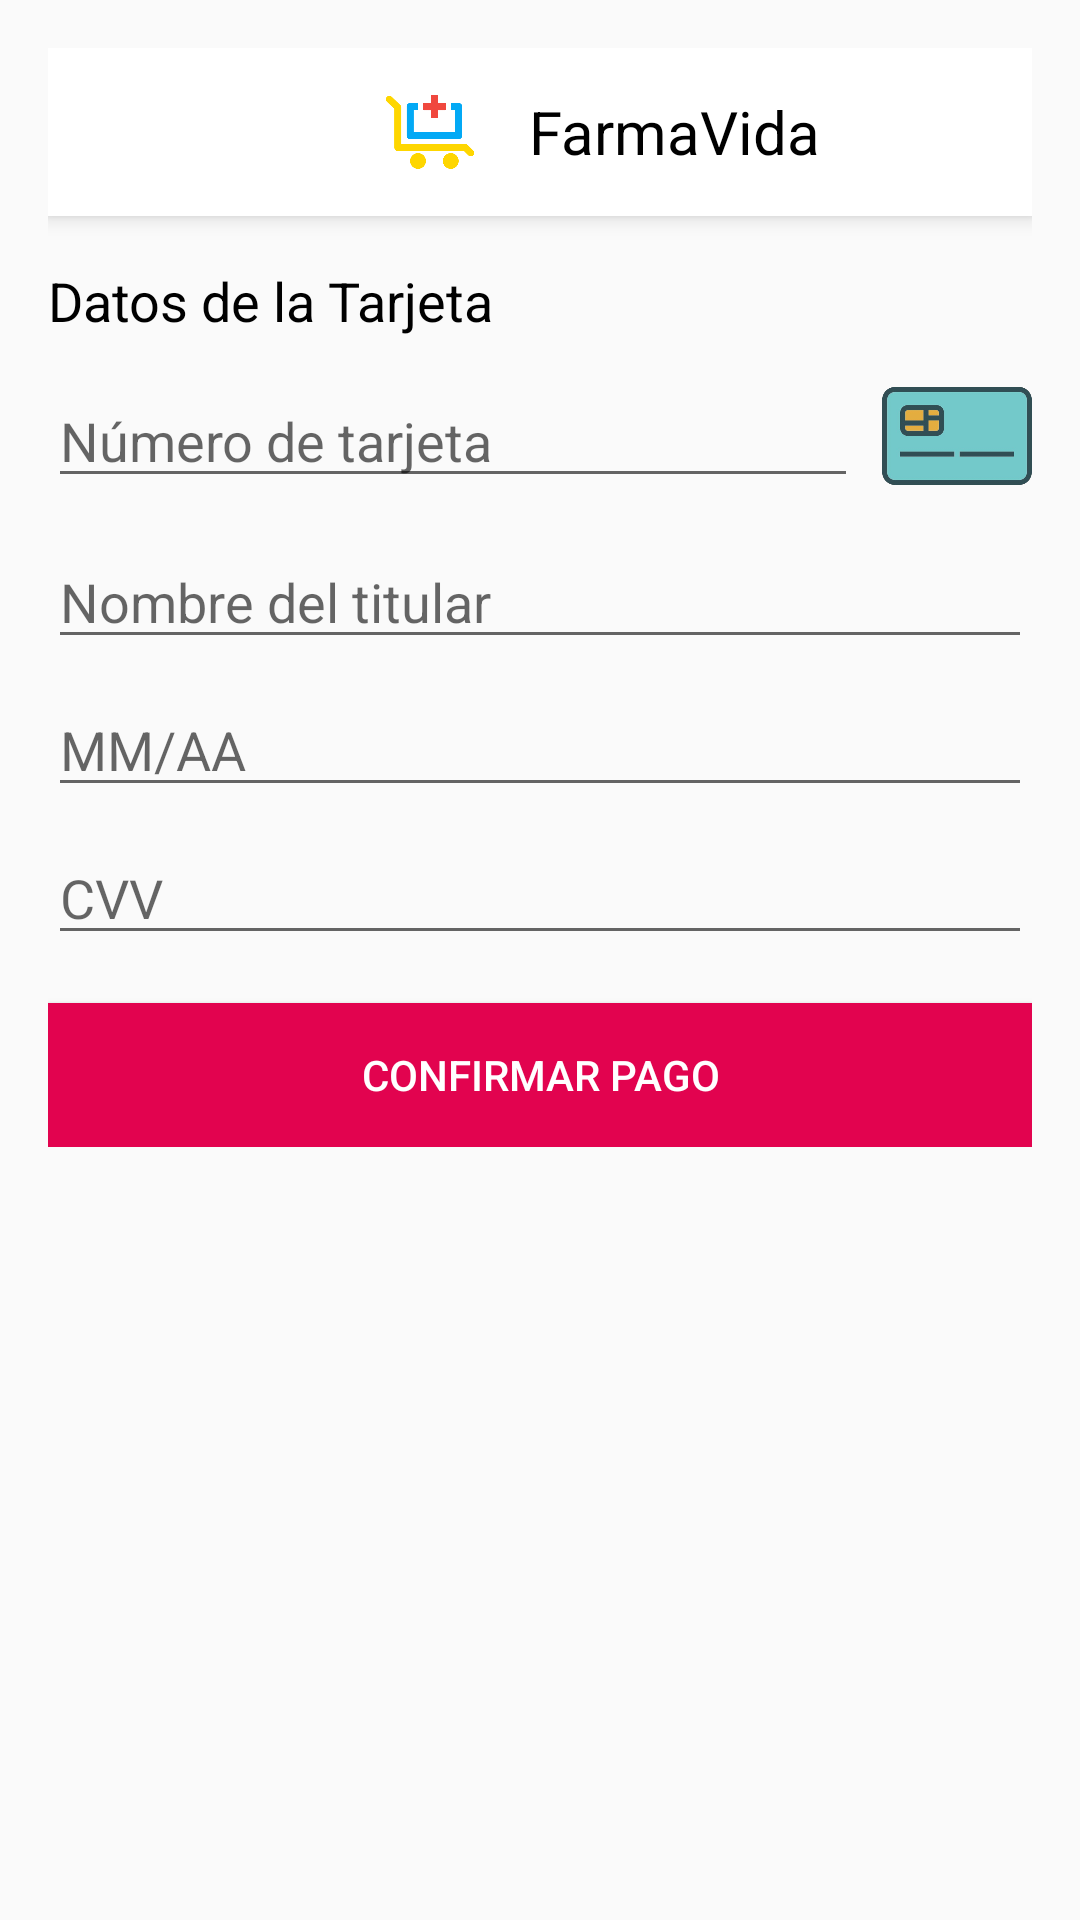

Where to tap for icons on this 1080*1920 app screen, as [x,y]:
Tipo de tarjeta: [957,436]
